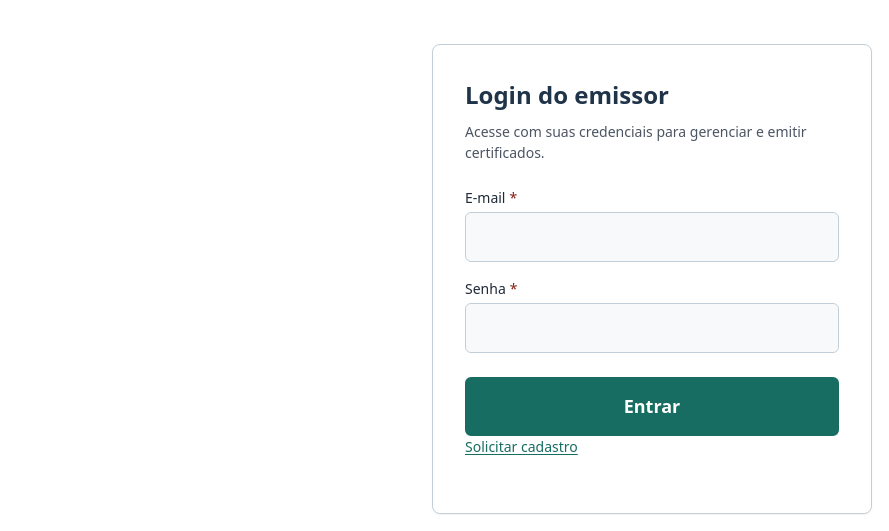
LoginPage (CT1/CT3) › realiza login com sucesso como ADMINISTRADOR e navega para /admin/emissores
The image size is (889, 531).
In the field labelled "E-mail*": (652,237) [465,212,839,262], type "admin@timbro.test"
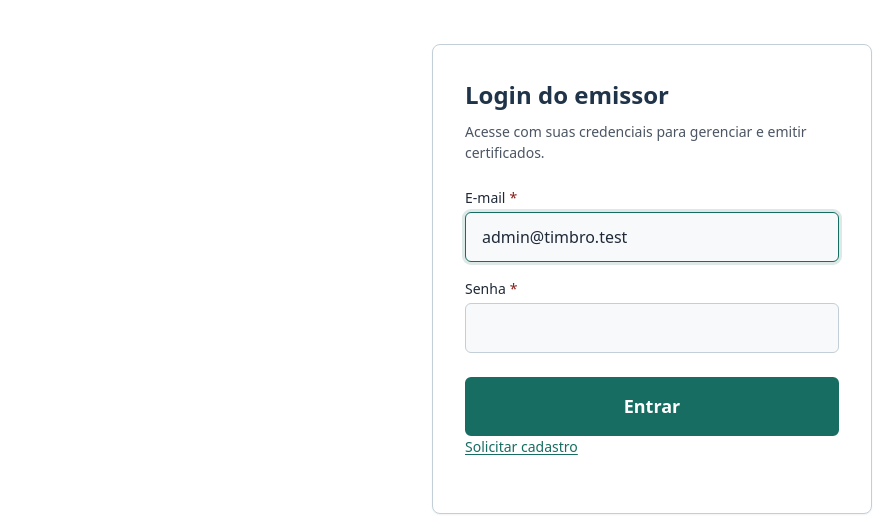
In the password field labelled "Senha*": (652,328) [465,303,839,353], type "Senha@123"
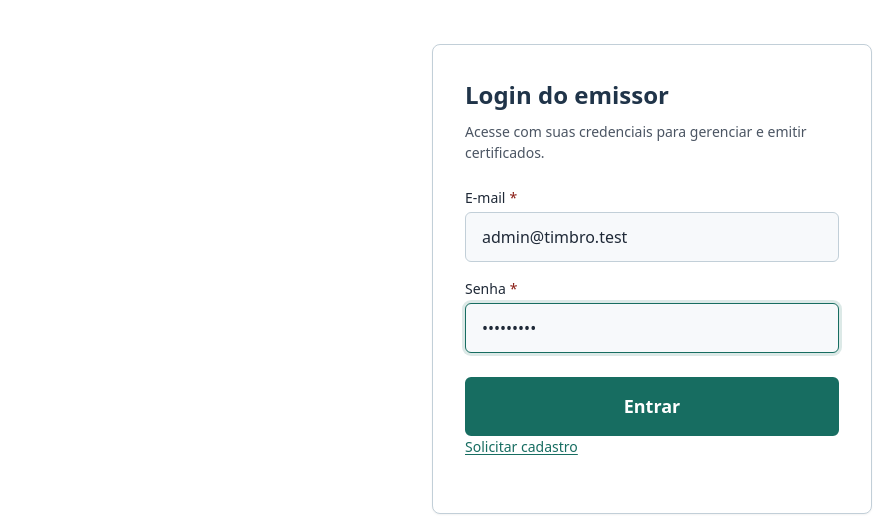
Click the button "Entrar": (652,406) [465,377,839,436]
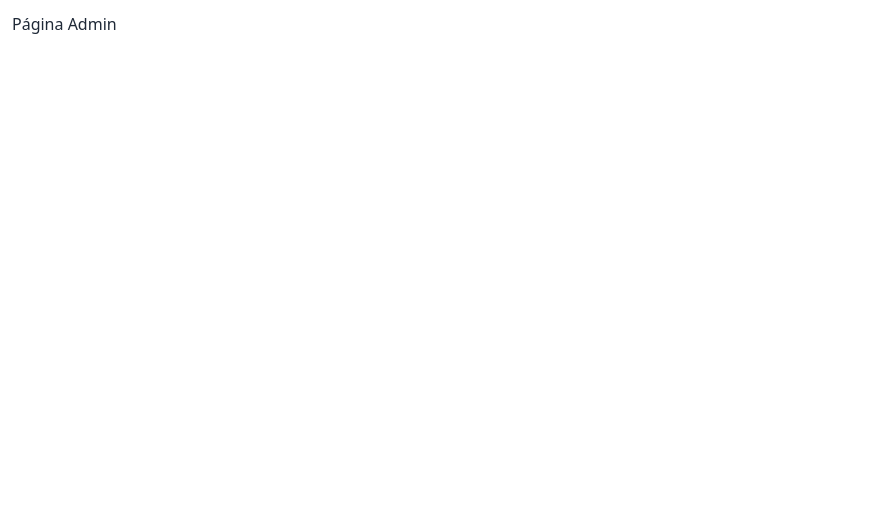
Now the text "Página Admin" is shown, box [12,13,117,35]
